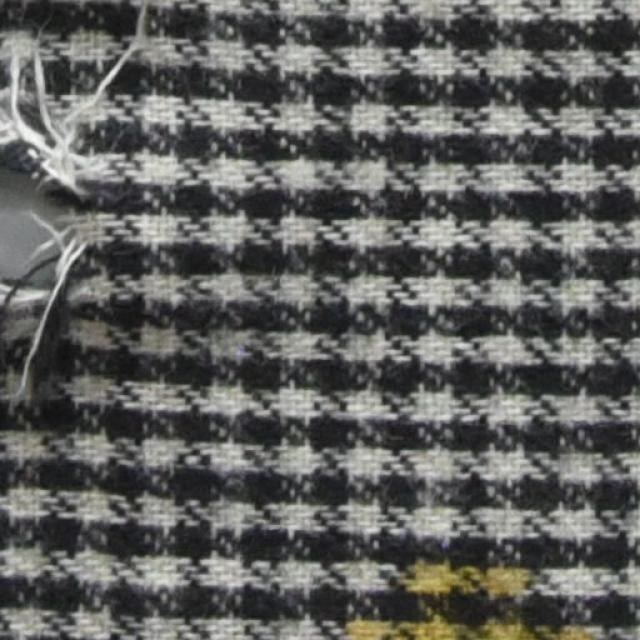Hole: (9, 163, 71, 285)
Snag: (0, 1, 156, 188)
Stain: (331, 546, 615, 639)
